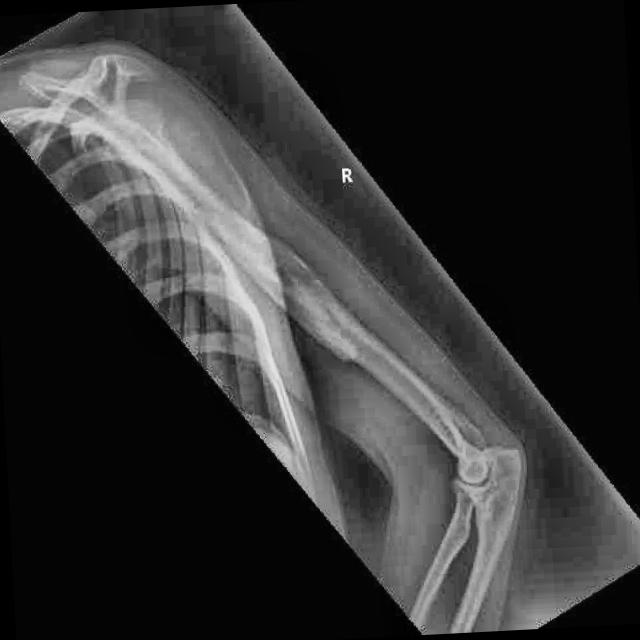humerus: (233, 204, 406, 411)
